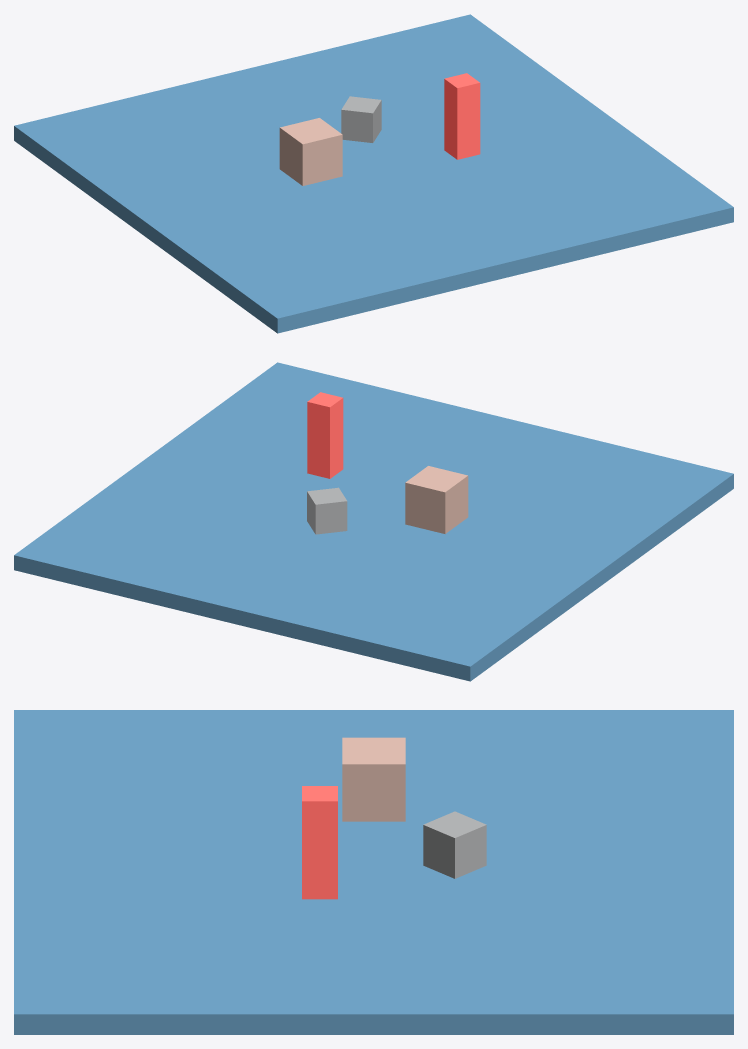
The picture shows the model from 3 angles, top to bottom: view 1: azimuth 30°, elevation 25°; view 2: azimuth 150°, elevation 25°; view 3: azimuth 270°, elevation 25°; orthographic projection. The views are drawn at different scales.
Visible parts, largest first — view 1: Ground, CubeCopper, CubeGlossy, CubeSteel; view 2: Ground, CubeCopper, CubeGlossy, CubeSteel; view 3: Ground, CubeCopper, CubeGlossy, CubeSteel.
Part boxes in pixels (<box>): Ground: <box>14,14,733,333</box>; CubeCopper: <box>279,118,342,185</box>; CubeGlossy: <box>444,73,480,159</box>; CubeSteel: <box>341,96,381,142</box>; Ground: <box>14,362,733,681</box>; CubeCopper: <box>405,466,468,533</box>; CubeGlossy: <box>307,392,343,478</box>; CubeSteel: <box>307,487,347,534</box>; Ground: <box>14,710,733,1034</box>; CubeCopper: <box>342,737,405,821</box>; CubeGlossy: <box>302,786,337,899</box>; CubeSteel: <box>423,811,486,878</box>.
Bounding box in the file's own units: 16 × 3.3 × 16.
